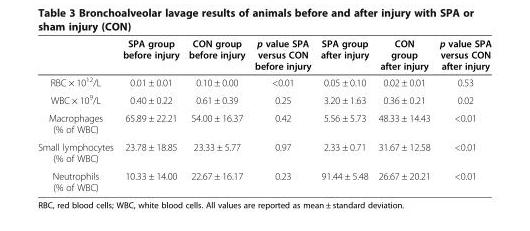table: (37, 37, 490, 192)
table column: (37, 37, 117, 192), (117, 37, 183, 192), (183, 37, 249, 192), (249, 37, 315, 192), (373, 37, 434, 192), (315, 37, 373, 192), (434, 37, 490, 192)
table column header: (37, 37, 490, 73)
table row: (37, 37, 490, 73), (37, 108, 490, 137), (37, 137, 490, 166), (37, 166, 490, 192), (37, 90, 490, 108), (37, 73, 490, 90)
